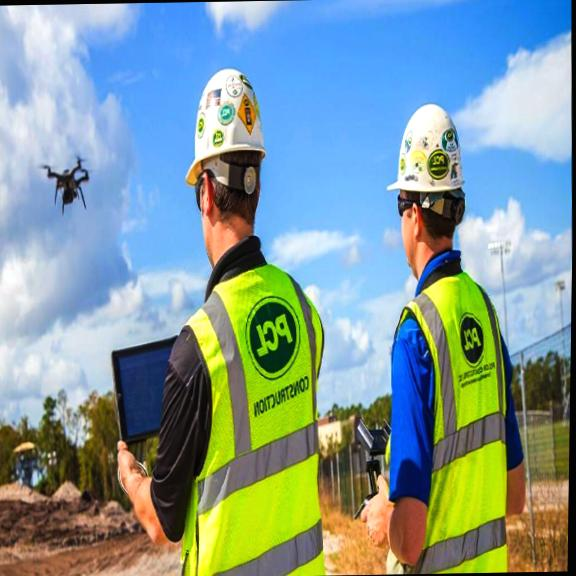safety_vest: (174, 251, 321, 576), (398, 270, 506, 574)
